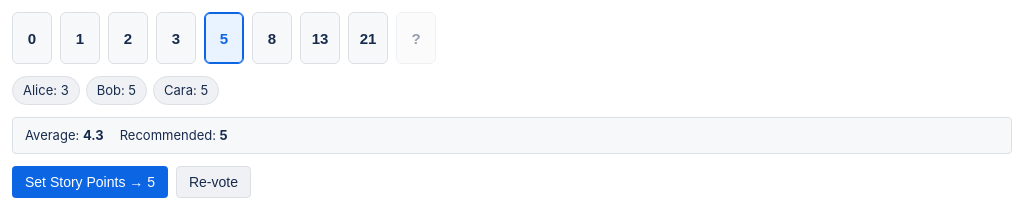
Test: Live multi-user synchronization, race guards, refresh deduplication, and unmount cleanup (R12) › deduplicates echoed points-applied events when echo arrives before applyStoryPoints settles and across the 64-round FIFO capacity
The image size is (1024, 215).
Click the button with test id "apply-story-points-button" at (90, 182), box [12,166,168,198]
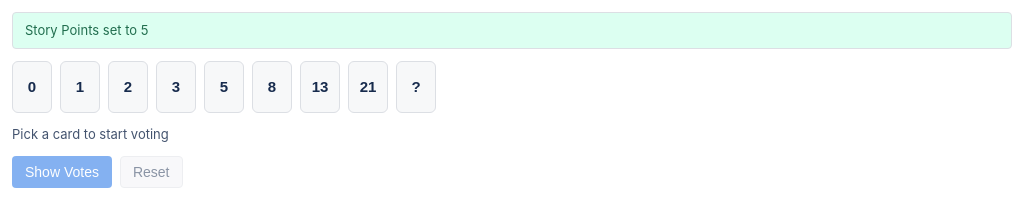
expect the message with test id "points-applied-banner" reads "Story Points set to 5": met, box [12,12,1012,49]
